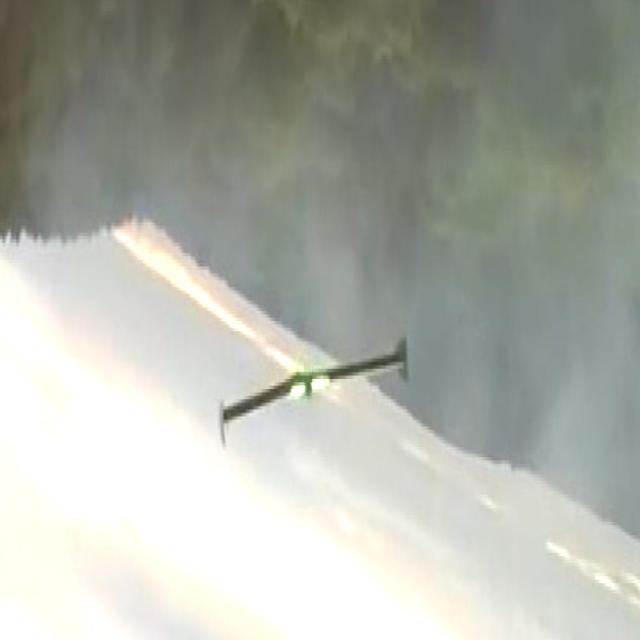plane: (218, 335, 412, 450)
